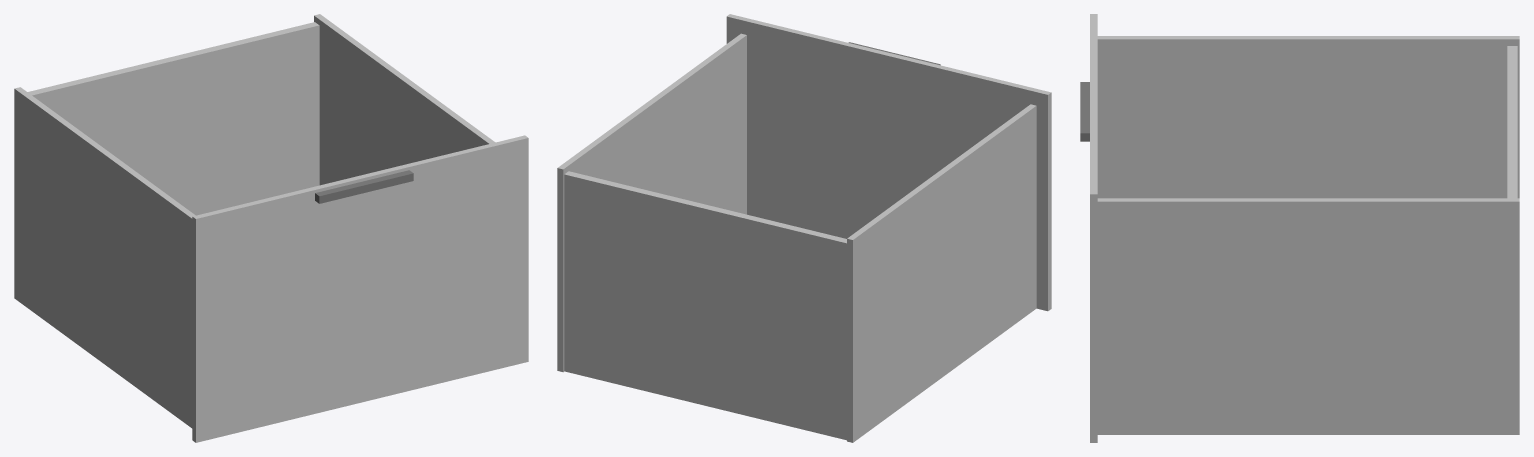
The model's file is Cocina_Cajon03.fbx.
The picture shows the model from 3 angles, left to right: view 1: azimuth 30°, elevation 25°; view 2: azimuth 150°, elevation 25°; view 3: azimuth 270°, elevation 25°; orthographic projection. The views are drawn at different scales.
Visible parts, largest first — view 1: Cocina_Cajon03; view 2: Cocina_Cajon03; view 3: Cocina_Cajon03.
Part boxes in pixels (box(x1,y1,x2,y2)): Cocina_Cajon03: box(14, 14, 528, 442); Cocina_Cajon03: box(557, 14, 1051, 442); Cocina_Cajon03: box(1080, 14, 1519, 442).
Size of the model in its own units: 68.13 by 43.81 by 70.17.
